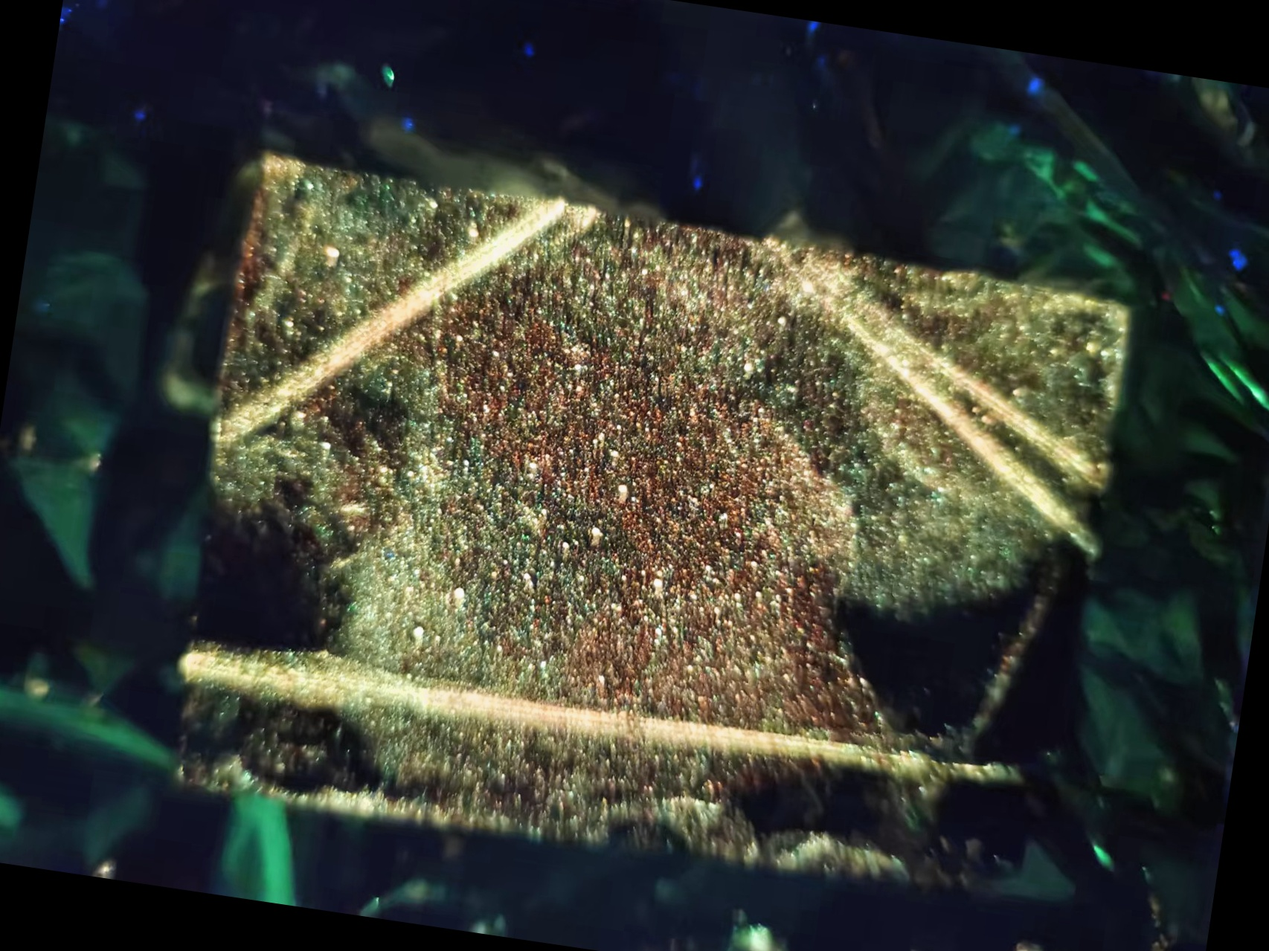Fissure: (155, 614, 1072, 851), (212, 147, 612, 493), (725, 240, 1160, 557)
